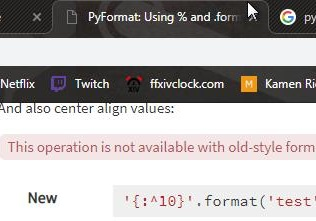cursor: (246, 1, 262, 23)
